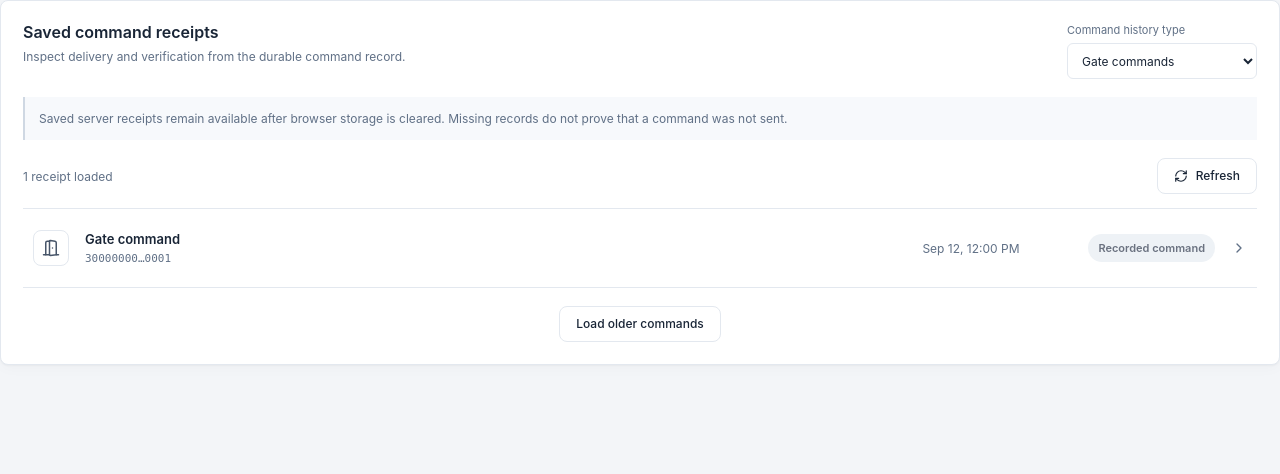
aborts older pages on refresh and ignores their late results
Click the button "Load older commands": (640, 324) [559,306,721,342]
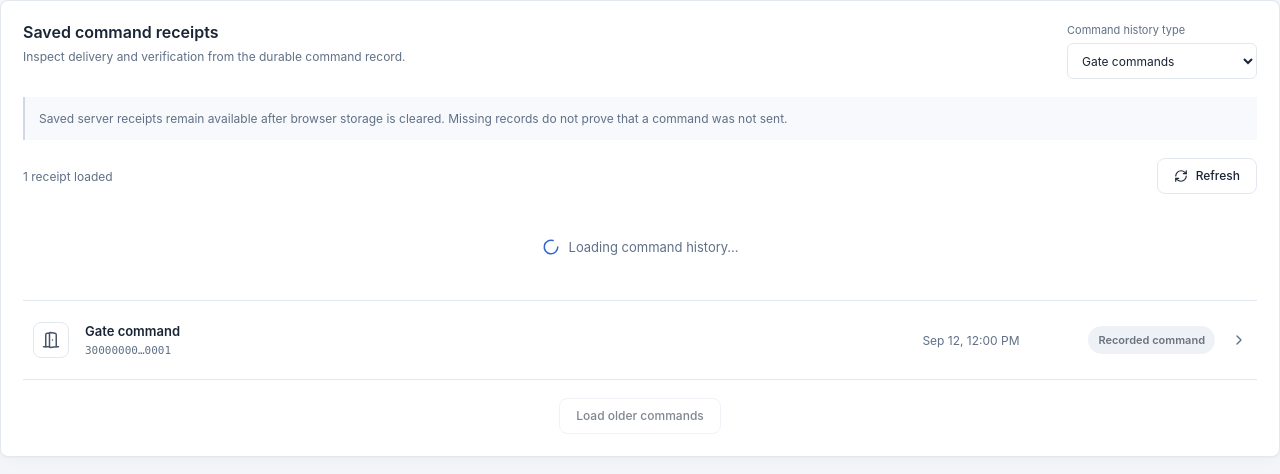
Click the button with aria-label "Refresh command history": (1207, 176) [1157,158,1257,194]
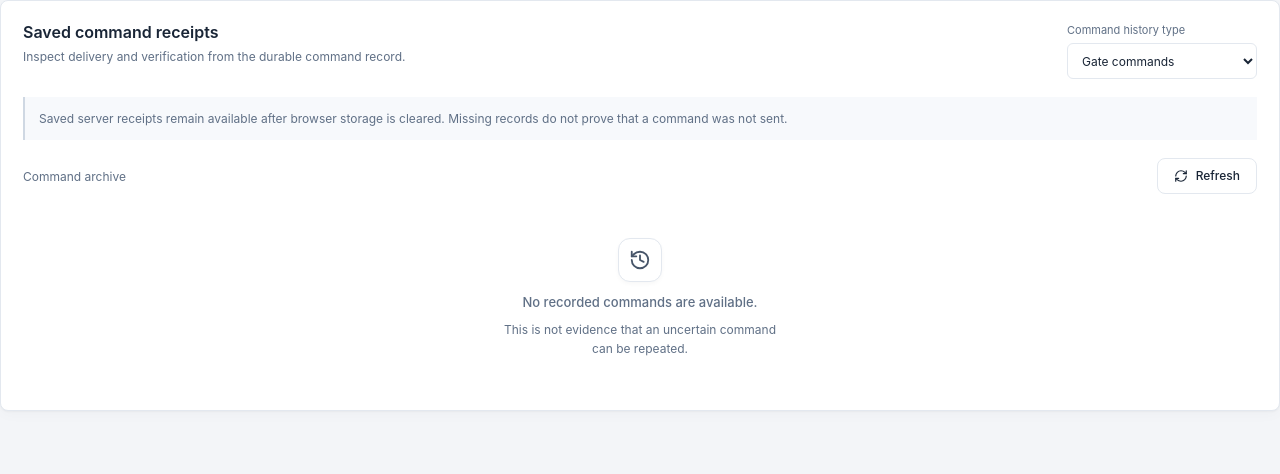
expect the text "No recorded commands are available." is shown: met, box [522,294,758,312]
